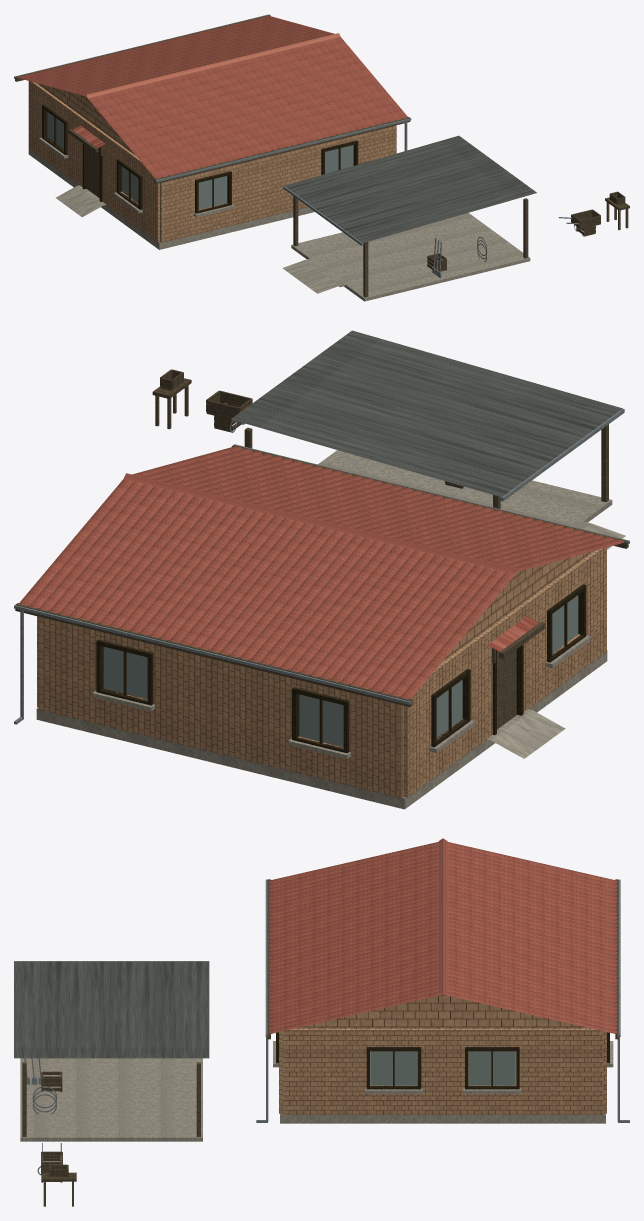
3 renders of one model, top to bottom at view 1: azimuth 30°, elevation 25°; view 2: azimuth 150°, elevation 25°; view 3: azimuth 270°, elevation 25°, orthographic. The views are drawn at different scales.
Parts seen in each view (by area): view 1: H22_TELHAS, H22_GARAGEM_CHAPAS_UMA_AGUA, H22_GARAGEM_BASE, H22_LATERAIS, H22_FACHADA, H22_VIDROS_RECUADOS, H22_CAIXILHOS, H22_FUNDACAO, H22_BEIRAIS, H22_OITOES, H22_CUMEEIRA, H22_CALHA (+6 smaller); view 2: H22_TELHAS, H22_GARAGEM_CHAPAS_UMA_AGUA, H22_LATERAIS, H22_FACHADA, H22_FUNDACAO, H22_GARAGEM_BASE, H22_VIDROS_RECUADOS, H22_CAIXILHOS, H22_BEIRAIS, H22_OITOES, H22_CUMEEIRA, H22_CALHA (+9 smaller); view 3: H22_TELHAS, H22_FUNDOS, H22_GARAGEM_CHAPAS_UMA_AGUA, H22_GARAGEM_BASE, H22_OITOES, H22_VIDROS_RECUADOS, H22_FUNDACAO, H22_CAIXILHOS, H22_CUMEEIRA, H22_BEIRAIS, H22_CALHA, H22_PEITORIS (+2 smaller).
Part boxes in pixels (box(x1,y1,x2,y2)): H22_TELHAS: box(17, 16, 407, 178); H22_GARAGEM_CHAPAS_UMA_AGUA: box(285, 135, 536, 242); H22_GARAGEM_BASE: box(291, 213, 530, 301); H22_LATERAIS: box(160, 125, 395, 242); H22_FACHADA: box(28, 81, 159, 242); H22_VIDROS_RECUADOS: box(47, 112, 353, 209); H22_CAIXILHOS: box(42, 104, 358, 213); H22_FUNDACAO: box(28, 148, 314, 249); H22_BEIRAIS: box(15, 14, 410, 183); H22_OITOES: box(37, 83, 135, 155); H22_CUMEEIRA: box(85, 33, 340, 98); H22_CALHA: box(14, 14, 411, 182); H22_TELHAS: box(19, 446, 624, 698); H22_GARAGEM_CHAPAS_UMA_AGUA: box(231, 330, 622, 497); H22_LATERAIS: box(38, 616, 403, 798); H22_FACHADA: box(403, 547, 606, 797); H22_FUNDACAO: box(36, 650, 607, 809); H22_GARAGEM_BASE: box(318, 450, 612, 525); H22_VIDROS_RECUADOS: box(103, 595, 578, 746); H22_CAIXILHOS: box(96, 584, 586, 753); H22_BEIRAIS: box(15, 445, 628, 706); H22_OITOES: box(441, 551, 594, 663); H22_CUMEEIRA: box(123, 473, 519, 574); H22_CALHA: box(14, 444, 629, 704); H22_TELHAS: box(269, 842, 616, 1033); H22_FUNDOS: box(282, 1028, 603, 1114); H22_GARAGEM_CHAPAS_UMA_AGUA: box(14, 961, 209, 1058); H22_GARAGEM_BASE: box(20, 1058, 202, 1141); H22_OITOES: box(295, 994, 590, 1028); H22_VIDROS_RECUADOS: box(370, 1051, 515, 1085); H22_FUNDACAO: box(280, 1051, 605, 1123); H22_CAIXILHOS: box(276, 1032, 609, 1089); H22_CUMEEIRA: box(438, 838, 447, 994); H22_BEIRAIS: box(267, 879, 618, 1039); H22_CALHA: box(265, 879, 620, 1036); H22_PEITORIS: box(273, 1041, 613, 1093).
Size of the model in its own units: 16.39 by 4.28 by 17.53.
11 materials, 9 textured.
